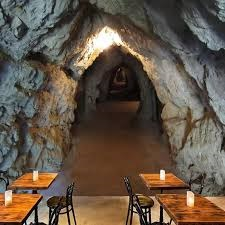painting: (1, 1, 224, 196)
